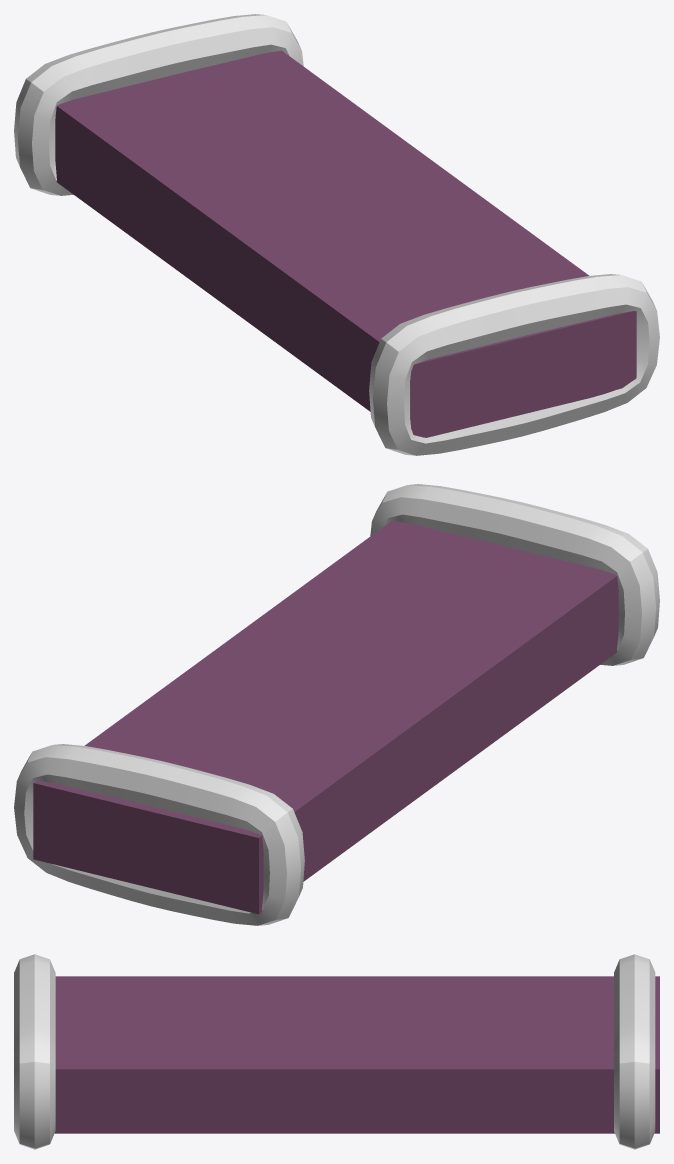
The model's file is พื้นสะพาน2.fbx.
The picture shows the model from 3 angles, top to bottom: view 1: azimuth 30°, elevation 25°; view 2: azimuth 150°, elevation 25°; view 3: azimuth 270°, elevation 25°; orthographic projection. The views are drawn at different scales.
Visible parts, largest first — view 1: Plane.007; view 2: Plane.007; view 3: Plane.007.
Part boxes in pixels (x1=…): Plane.007: x1=14, y1=14, x2=659, y2=455; Plane.007: x1=14, y1=484, x2=659, y2=925; Plane.007: x1=14, y1=954, x2=659, y2=1149.
Size of the model in its own units: 654 by 314 by 1530.
Materials: 2 (1 with a texture image).
